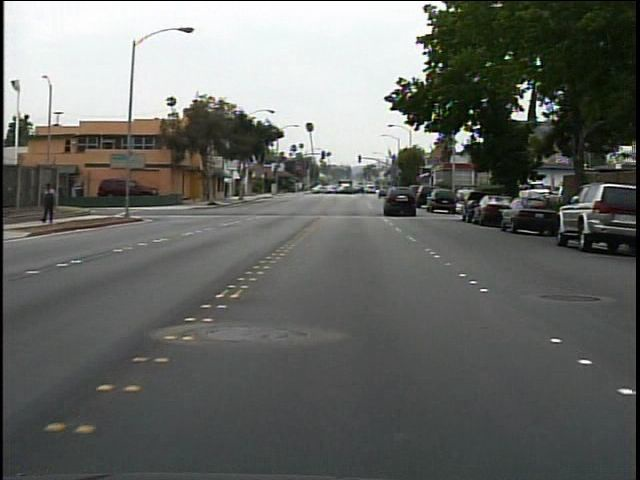person: (38, 179, 64, 229)
